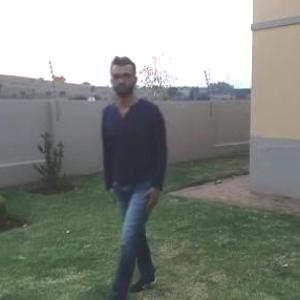follow: (98, 46, 199, 299)
